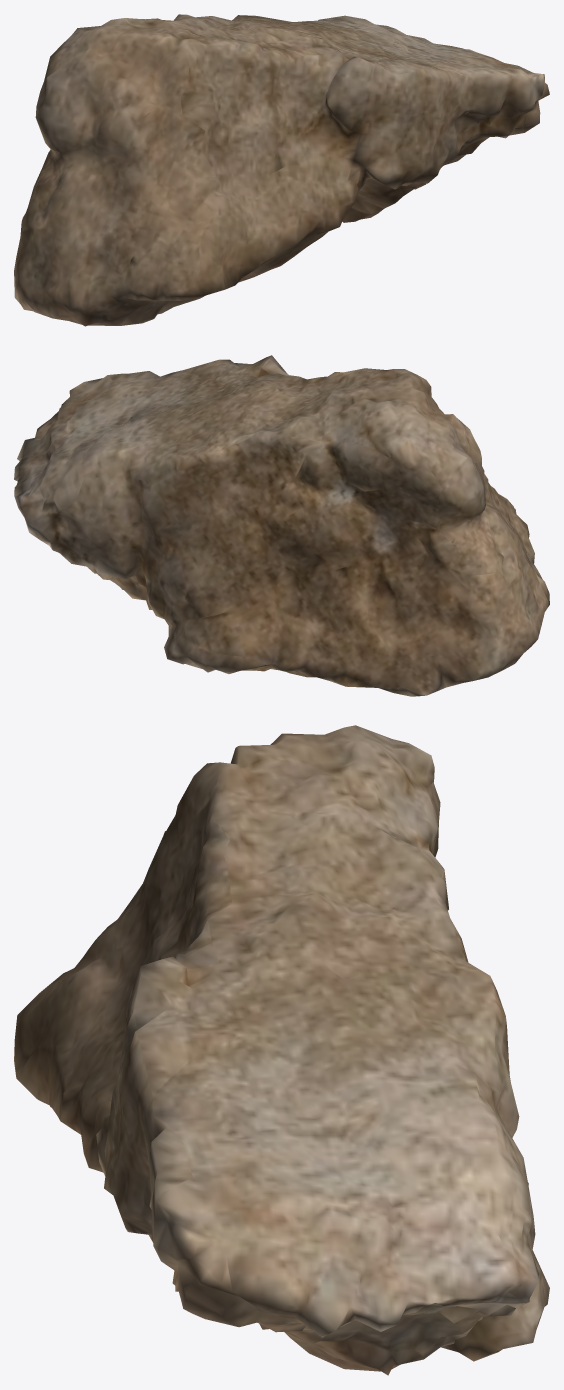
Rendered from pebble_a.glb.
3 renders of one model, top to bottom at view 1: azimuth 30°, elevation 25°; view 2: azimuth 150°, elevation 25°; view 3: azimuth 270°, elevation 25°, orthographic. The views are drawn at different scales.
Visible parts, largest first — view 1: pebble_a; view 2: pebble_a; view 3: pebble_a.
Part boxes in pixels (left/top/right/bottom): pebble_a: left=14, top=14, right=549, bottom=326; pebble_a: left=14, top=355, right=549, bottom=696; pebble_a: left=14, top=725, right=549, bottom=1375.
Size of the model in its own units: 1.26 by 0.7007 by 0.6702.
Materials: 1 (1 with a texture image).
